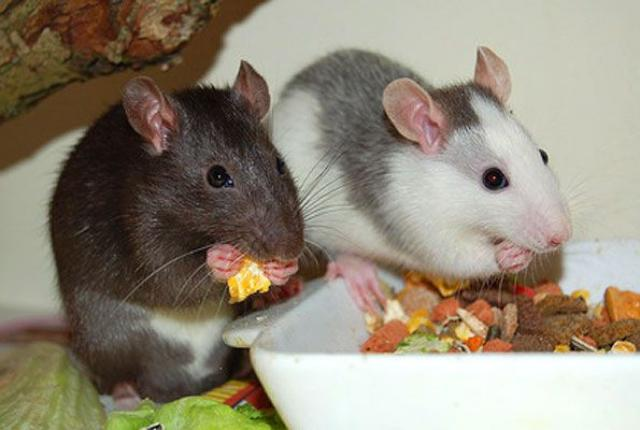rat: (35, 52, 308, 408), (330, 30, 588, 293)
